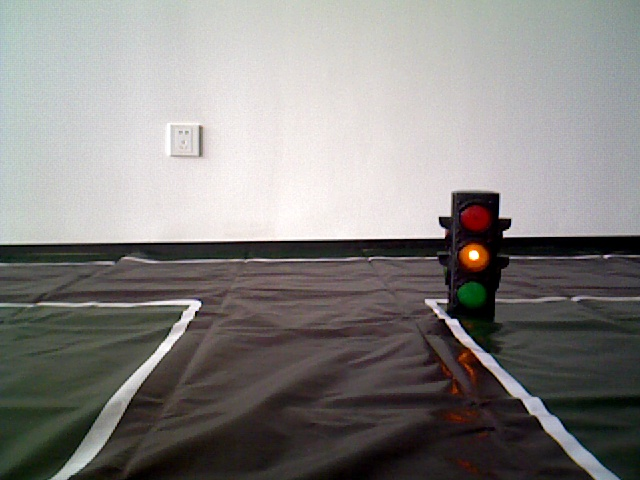yellow: (453, 193, 490, 315)
